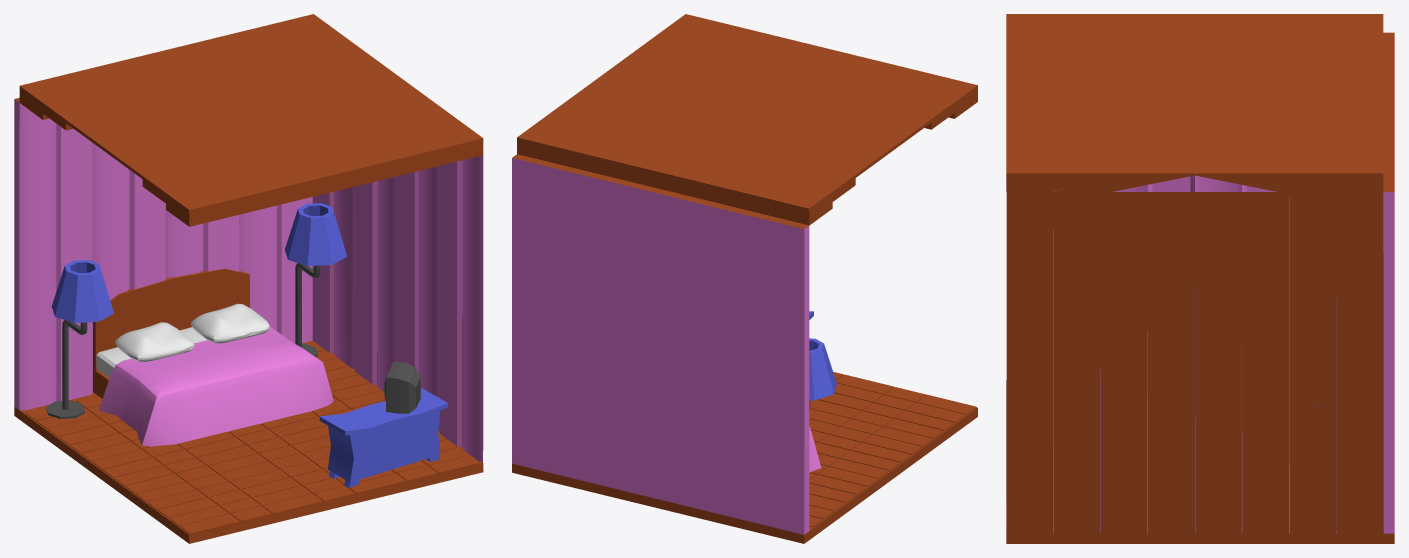
File: U_chambres.fbx
3 renders of one model, left to right at view 1: azimuth 30°, elevation 25°; view 2: azimuth 150°, elevation 25°; view 3: azimuth 270°, elevation 25°, orthographic. The views are drawn at different scales.
Visible parts, largest first — view 1: U_chambres; view 2: U_chambres; view 3: U_chambres.
Boxes of the visible parts, x1,y1,x2,y2 form: U_chambres: [14, 14, 483, 543]; U_chambres: [512, 14, 977, 543]; U_chambres: [1006, 14, 1394, 543].
Bounding box in the file's own units: 601 × 651 × 618.
